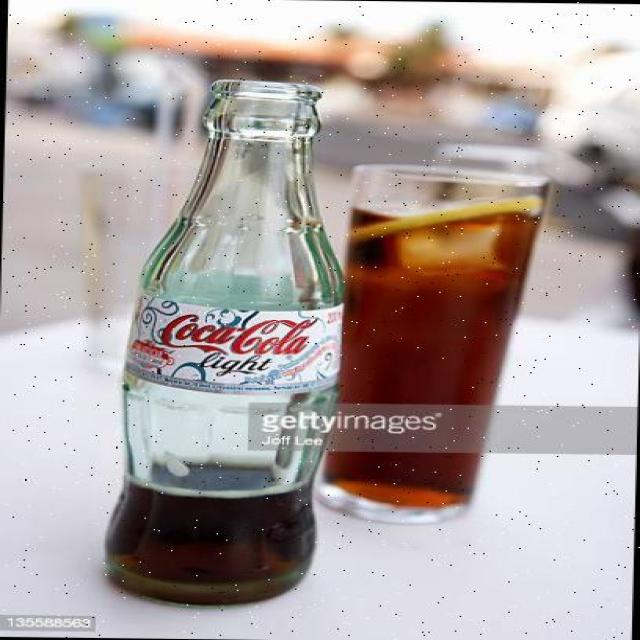coca-cola: (96, 76, 337, 611)
